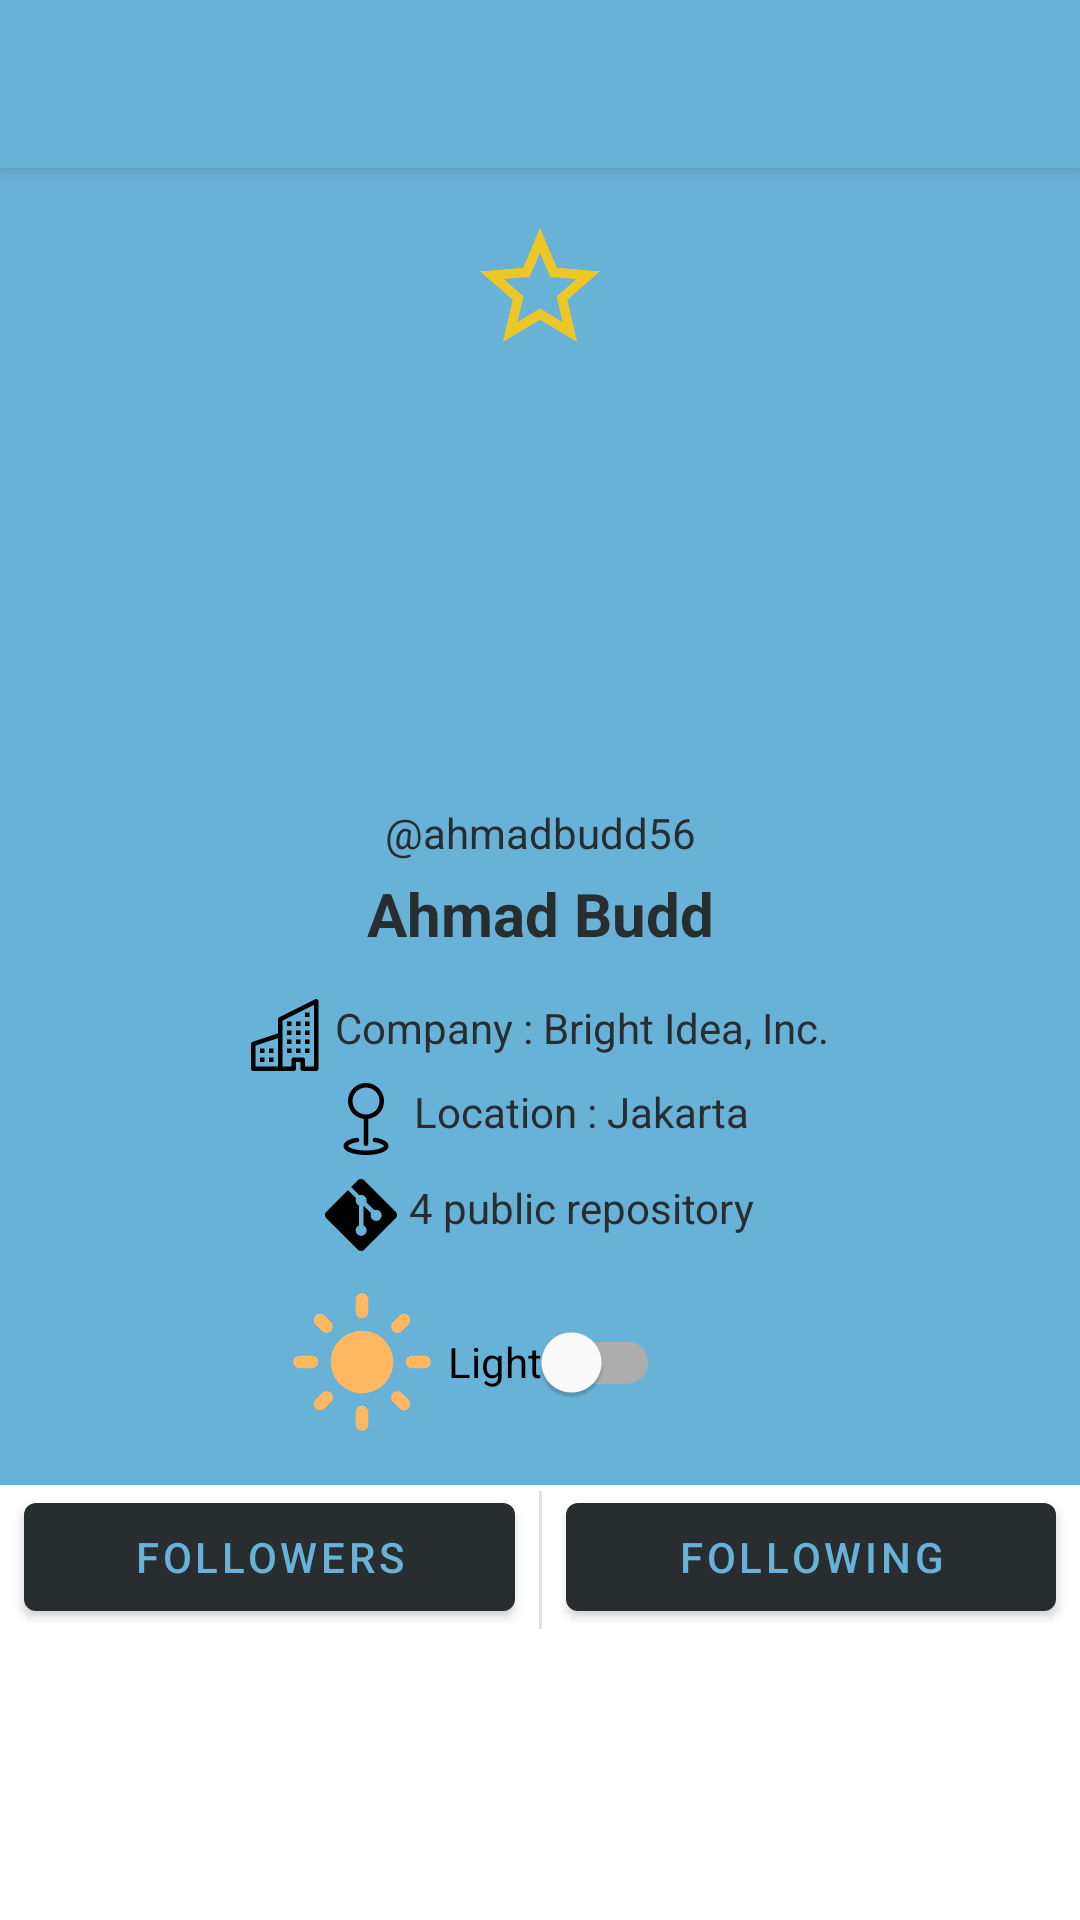

Screen size 1080px×1920px. Icon name, then its box in pixels as (x1, y1, x2, y2):
Theme icon: (293, 1293, 431, 1431)
